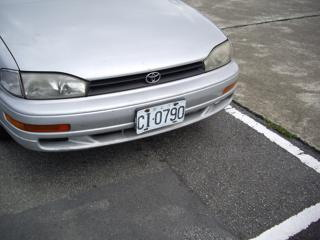plate: (134, 102, 186, 129)
